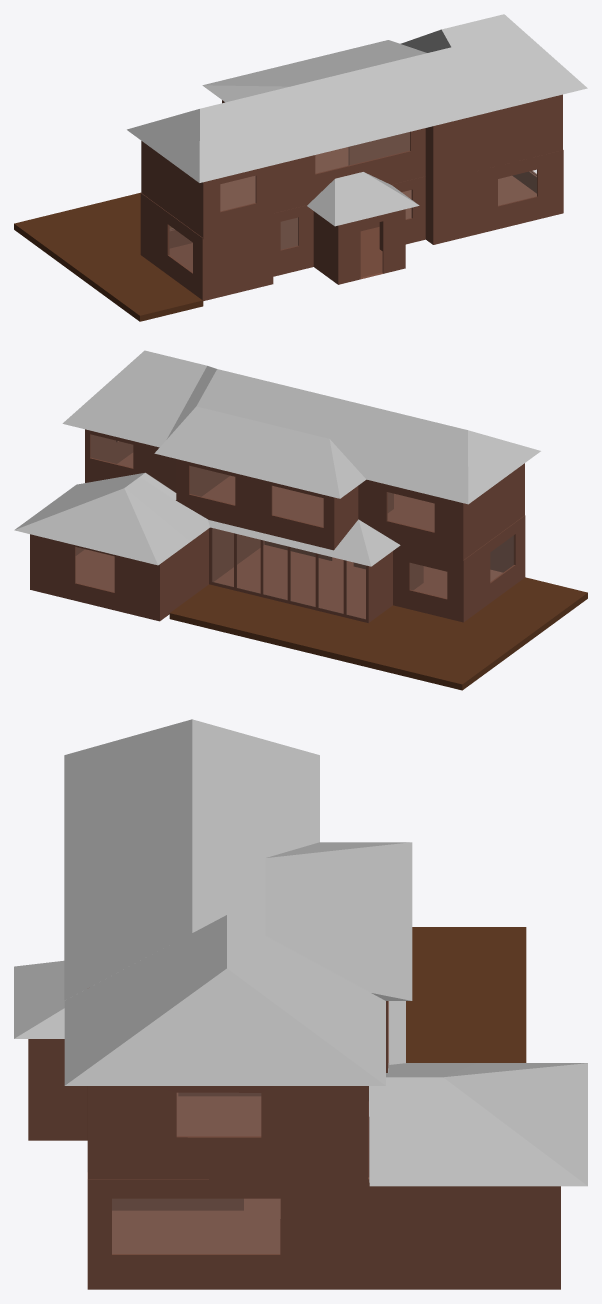
The model's file is House.glb.
The picture shows the model from 3 angles, top to bottom: view 1: azimuth 30°, elevation 25°; view 2: azimuth 150°, elevation 25°; view 3: azimuth 270°, elevation 25°; orthographic projection. The views are drawn at different scales.
Visible parts, largest first — view 1: Floor2Roof-col, Floor1-col, Floor2-col, Deck-col, Floor1Roof-col; view 2: Floor2Roof-col, Floor1-col, Floor2-col, Deck-col, Floor1Roof-col; view 3: Floor2Roof-col, Floor1-col, Floor1Roof-col, Floor2-col, Deck-col.
Boxes of the visible parts, left/top/right/bottom form: Floor2Roof-col: left=127, top=14, right=587, bottom=182; Floor1-col: left=140, top=150, right=563, bottom=300; Floor2-col: left=141, top=94, right=562, bottom=239; Deck-col: left=14, top=192, right=203, bottom=321; Floor1Roof-col: left=307, top=172, right=419, bottom=226; Floor2Roof-col: left=62, top=350, right=540, bottom=504; Floor1-col: left=30, top=515, right=525, bottom=622; Floor2-col: left=85, top=429, right=524, bottom=561; Deck-col: left=169, top=577, right=587, bottom=690; Floor1Roof-col: left=14, top=472, right=400, bottom=566; Floor2Roof-col: left=64, top=719, right=412, bottom=1085; Floor1-col: left=28, top=1001, right=560, bottom=1289; Floor1Roof-col: left=14, top=960, right=587, bottom=1186; Floor2-col: left=87, top=1001, right=387, bottom=1181; Deck-col: left=406, top=927, right=526, bottom=1062.
Bounding box in the file's own units: 20.82 × 8.09 × 13.43.
